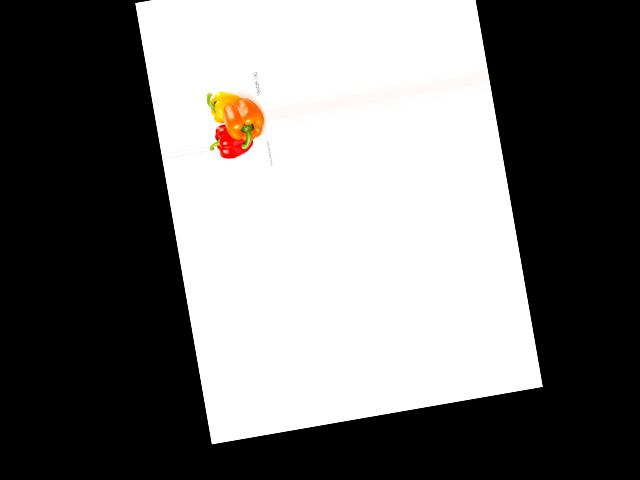bell_pepper: (203, 86, 245, 127)
